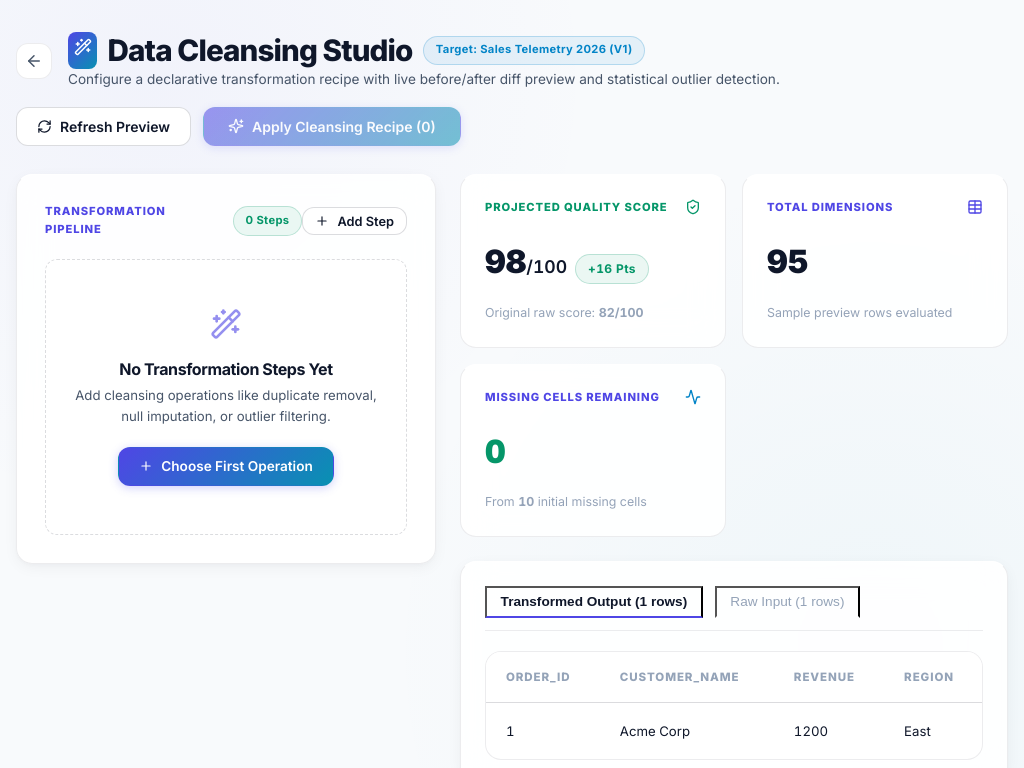
Test: CleansingStudioPage Component (Tasks 5.6 & 5.7) › displays LimitReachedModal when applying a locked operation returns 403 / FEATURE_NOT_INCLUDED
Click the button with test id "add-step-btn": (355, 221) [302,207,407,235]
(page scrolled)
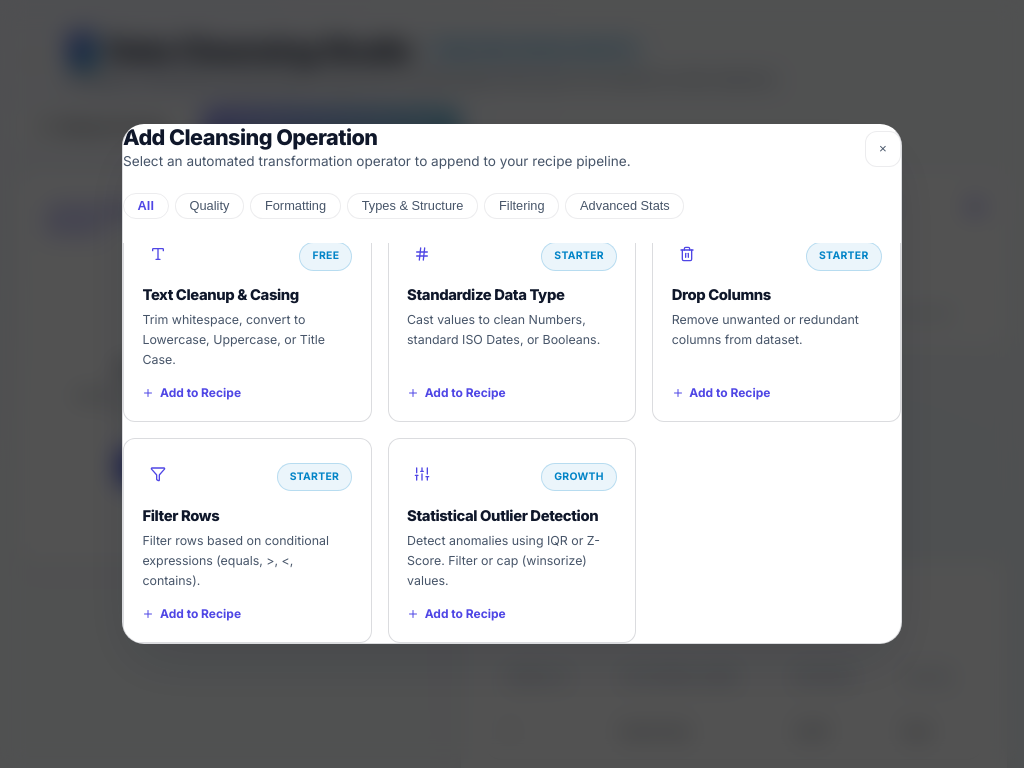
Click the element with test id "select-op-outlier_detection": (512, 540) [388,438,636,643]
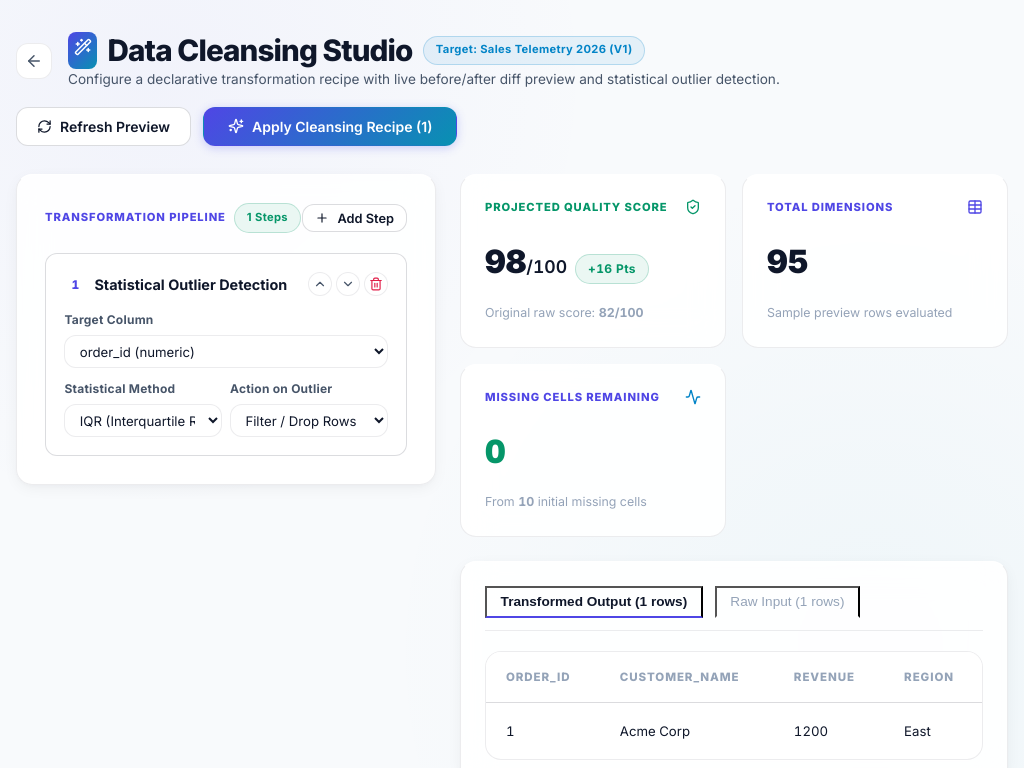
Now the element with test id "recipe-step-0" is shown, box [45,253,407,456]
Now the button with test id "apply-cleansing-btn" is enabled
Click the button with test id "apply-cleansing-btn": (330, 126) [203,106,457,146]
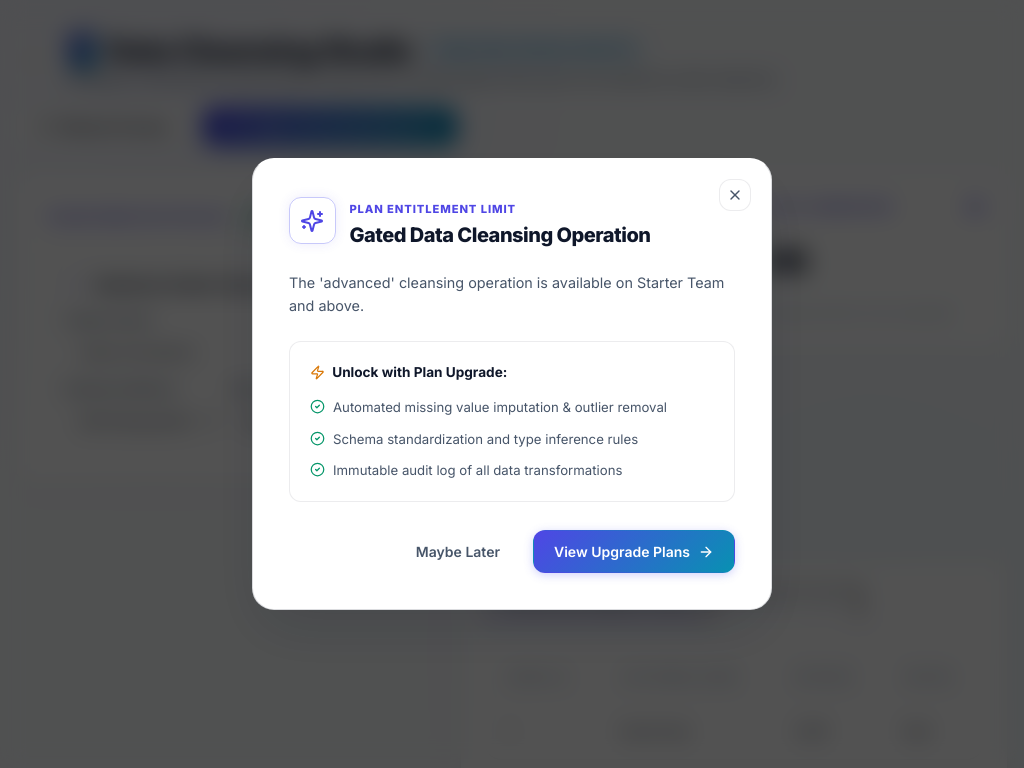
Now the element with test id "limit-reached-modal" is shown
Now the heading "Gated Data Cleansing Operation" is shown, box [349,223,650,247]
